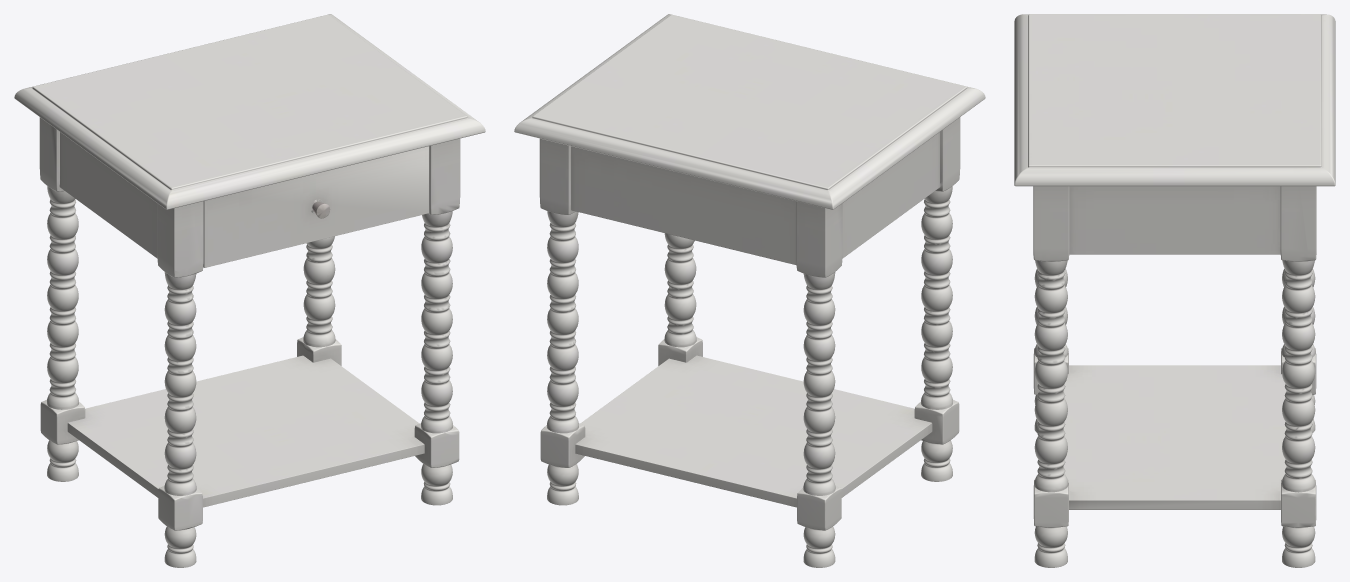
File: B07QGFZ28Y.glb
The picture shows the model from 3 angles, left to right: view 1: azimuth 30°, elevation 25°; view 2: azimuth 150°, elevation 25°; view 3: azimuth 270°, elevation 25°; orthographic projection. The views are drawn at different scales.
Visible parts, largest first — view 1: RootNode; view 2: RootNode; view 3: RootNode.
Boxes of the visible parts, <box> form: RootNode: <box>14,14,485,567</box>; RootNode: <box>514,14,985,567</box>; RootNode: <box>1014,14,1335,567</box>.
Bounding box in the file's own units: 0.4598 × 0.5309 × 0.381.
Materials: 1 (1 with a texture image).
